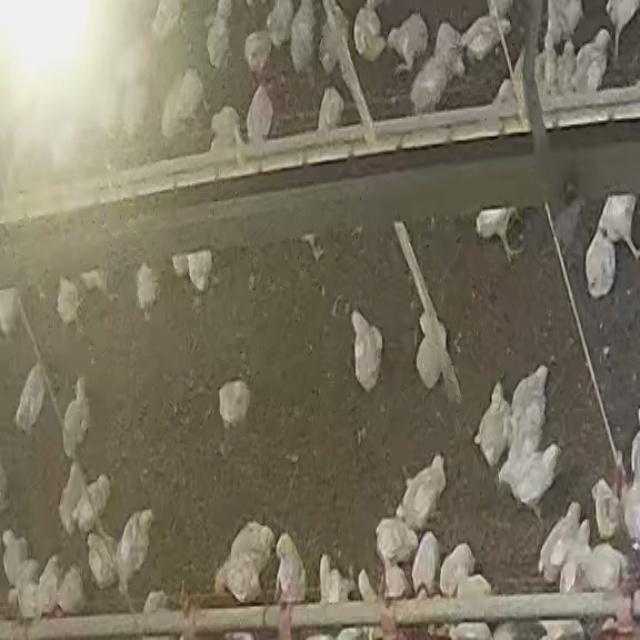chicken: (498, 435, 561, 515), (407, 27, 464, 114), (536, 502, 586, 585), (401, 453, 452, 529), (116, 508, 156, 600), (414, 311, 454, 395), (160, 68, 204, 142), (476, 384, 508, 468), (572, 28, 612, 95), (384, 11, 429, 70), (61, 376, 94, 455), (561, 517, 592, 601), (210, 556, 264, 604), (317, 5, 352, 79), (350, 308, 381, 390), (475, 205, 523, 257), (459, 12, 507, 64), (115, 71, 152, 138), (59, 462, 91, 539), (511, 359, 546, 429), (274, 532, 306, 606), (438, 540, 478, 598), (234, 524, 277, 577), (14, 365, 47, 434), (582, 542, 627, 592), (585, 230, 619, 296), (86, 531, 122, 593), (352, 1, 387, 64), (288, 2, 319, 73), (605, 0, 639, 64), (544, 1, 584, 55), (375, 516, 416, 568), (205, 0, 235, 70), (622, 431, 640, 542), (411, 531, 441, 596), (590, 476, 619, 540), (1, 528, 33, 586), (82, 474, 112, 534), (431, 20, 464, 74), (208, 104, 243, 154), (319, 554, 353, 604), (246, 83, 275, 141), (16, 565, 44, 623), (151, 0, 187, 45), (36, 555, 62, 616), (219, 378, 253, 423), (264, 0, 295, 49), (55, 565, 84, 616), (316, 86, 346, 133), (243, 30, 275, 74), (135, 262, 160, 316), (55, 276, 80, 326), (0, 286, 24, 337), (186, 250, 215, 292), (490, 78, 518, 116), (382, 562, 410, 598), (489, 0, 517, 29), (358, 568, 378, 603)
